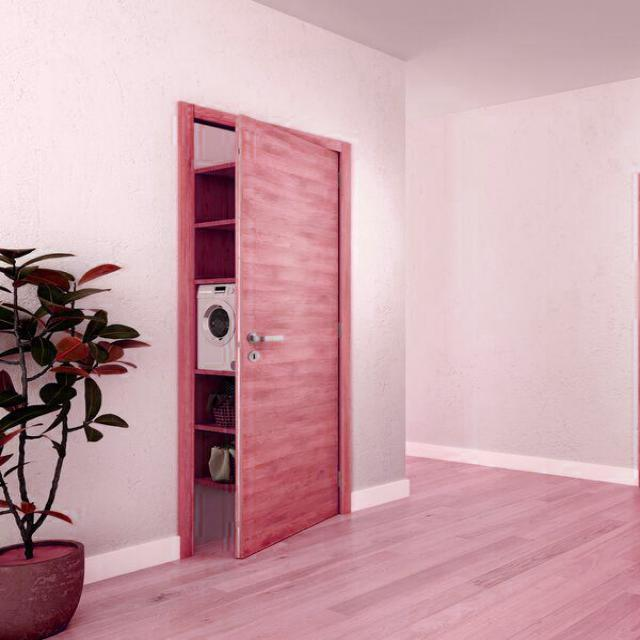door: (162, 95, 358, 570)
